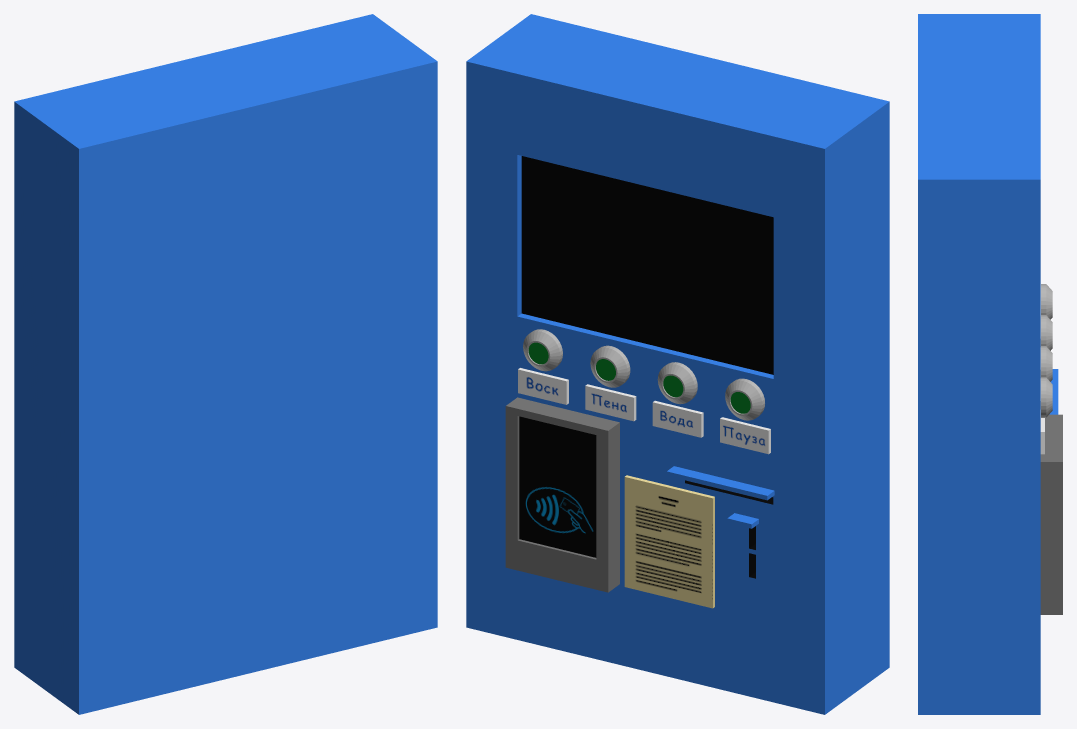
Rendered from Автомат оплаты.fbx.
3 renders of one model, left to right at view 1: azimuth 30°, elevation 25°; view 2: azimuth 150°, elevation 25°; view 3: azimuth 270°, elevation 25°, orthographic. The views are drawn at different scales.
Visible parts, largest first — view 1: Куб.073; view 2: Куб.073, Цилиндр.028, Цилиндр.030, Цилиндр.032, Цилиндр.029; view 3: Куб.073, Цилиндр.029, Цилиндр.028, Цилиндр.030, Цилиндр.032.
Part boxes in pixels (bbox=[...]): Куб.073: bbox=[14, 14, 437, 714]; Куб.073: bbox=[466, 14, 889, 714]; Цилиндр.028: bbox=[590, 345, 630, 387]; Цилиндр.030: bbox=[725, 378, 764, 420]; Цилиндр.032: bbox=[657, 362, 697, 404]; Цилиндр.029: bbox=[523, 329, 562, 371]; Куб.073: bbox=[918, 14, 1062, 714]; Цилиндр.029: bbox=[1041, 377, 1052, 417]; Цилиндр.028: bbox=[1041, 346, 1052, 381]; Цилиндр.030: bbox=[1041, 284, 1052, 319]; Цилиндр.032: bbox=[1041, 315, 1052, 350].
Bounding box in the file's own units: 213 × 321 × 78.67.
Materials: 11 (6 with a texture image).
